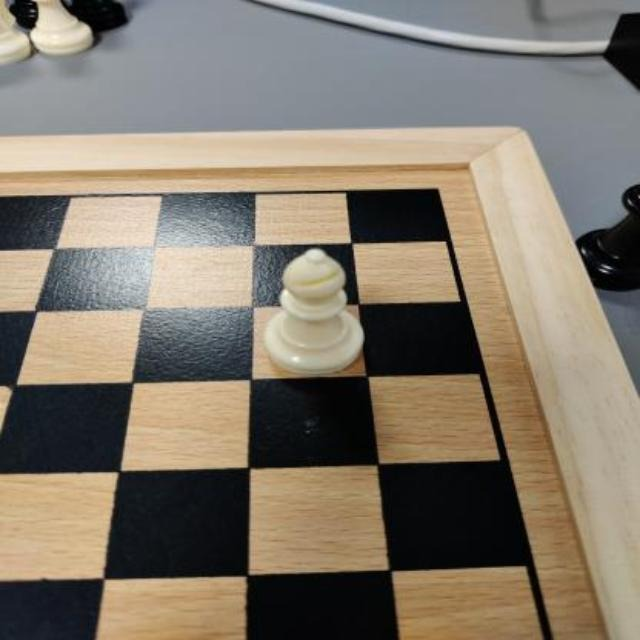white-bishop: (264, 248, 367, 374)
